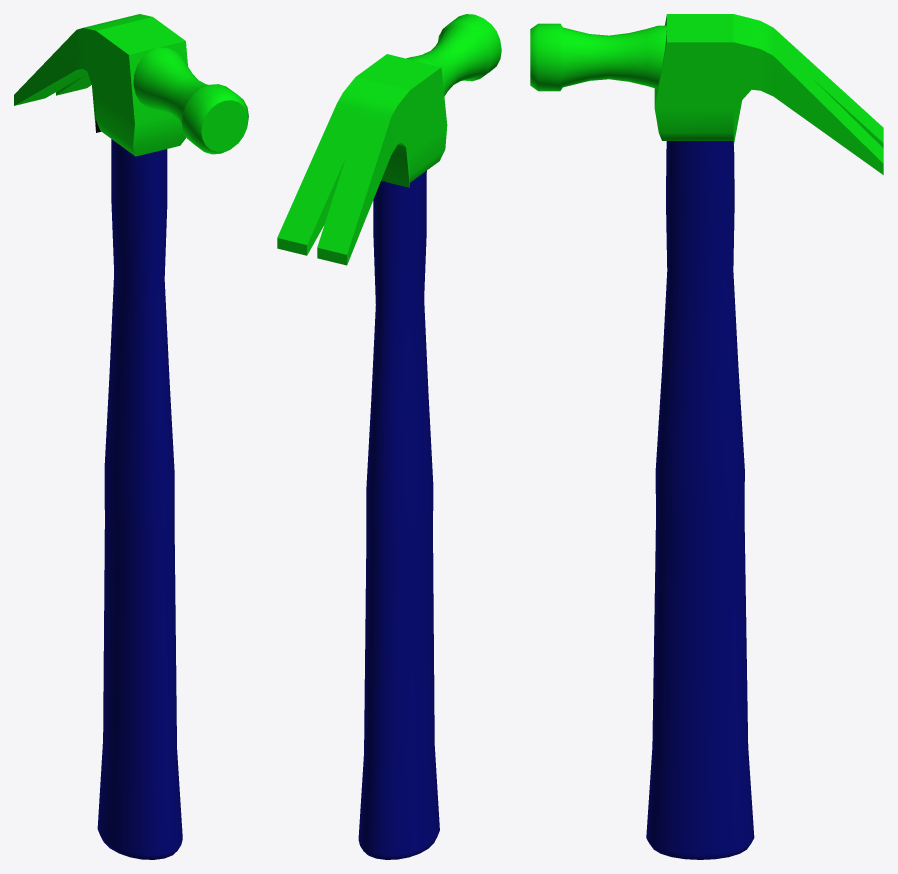
Rendered from Texture_Hammer.obj.
The picture shows the model from 3 angles, left to right: view 1: azimuth 30°, elevation 25°; view 2: azimuth 150°, elevation 25°; view 3: azimuth 270°, elevation 25°; orthographic projection. The views are drawn at different scales.
Parts seen in each view (by area): view 1: Hammer_Model; view 2: Hammer_Model; view 3: Hammer_Model.
Boxes of the visible parts, box(x1,y1,x2,y2) form: Hammer_Model: box(14, 14, 248, 859); Hammer_Model: box(277, 14, 501, 859); Hammer_Model: box(530, 14, 883, 859).
Size of the model in its own units: 1.28 by 13.53 by 5.29.
